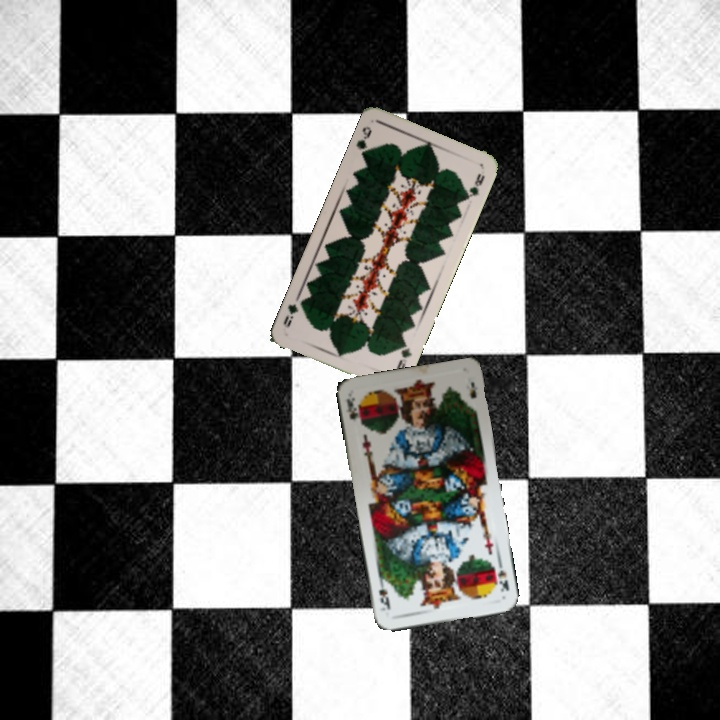G9: (352, 122, 374, 160), (392, 338, 415, 373)
SK: (342, 393, 364, 428), (490, 562, 512, 594)
